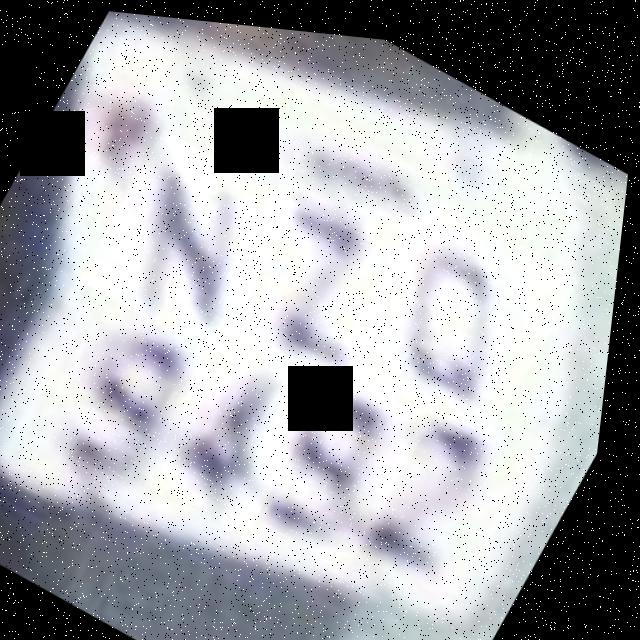2: (310, 350, 570, 612)
4: (134, 303, 346, 533)
9: (222, 317, 454, 569), (29, 276, 245, 497)
N: (79, 119, 308, 355)
O: (335, 177, 591, 437)
Z: (205, 139, 457, 396)
